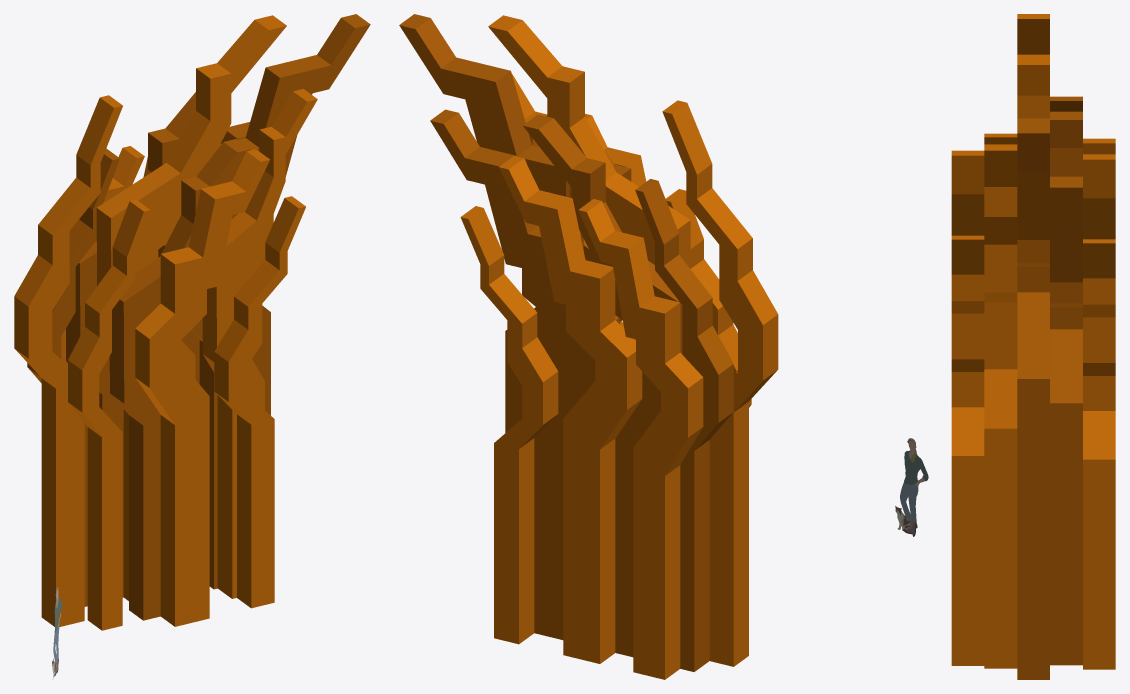
The model's file is tugu.gltf.
The picture shows the model from 3 angles, left to right: view 1: azimuth 30°, elevation 25°; view 2: azimuth 150°, elevation 25°; view 3: azimuth 270°, elevation 25°; orthographic projection. The views are drawn at different scales.
Visible parts, largest first — view 1: Group15, Group13, Group14, Group6, Group3, Group4, Group5, Group2, Group7, Group11, Group12, Group9; view 2: Group10, Group12, Group13, Group9, Group8, Group11, Group2, Group7, Group4, Group3, Group15; view 3: Group2, Group5, Group9, Group14, Group8, Group15, Group10, Group7, Group4, Heather1, Group13, Group12 (+2 smaller).
Boxes of the visible parts, box(x1,y1,x2,y2) form: Group15: box(135, 149, 269, 626); Group13: box(14, 95, 122, 626); Group14: box(214, 196, 305, 608); Group6: box(109, 139, 250, 620); Group3: box(68, 199, 150, 630); Group4: box(96, 15, 286, 600); Group5: box(202, 89, 317, 598); Group2: box(158, 14, 370, 589); Group7: box(66, 92, 195, 597); Group11: box(27, 148, 119, 606); Group12: box(61, 146, 144, 365); Group9: box(181, 93, 312, 383); Group10: box(499, 156, 642, 663); Group12: box(578, 199, 703, 679); Group13: box(662, 100, 778, 666); Group9: box(430, 109, 620, 639); Group8: box(460, 206, 558, 644); Group11: box(635, 179, 733, 671); Group2: box(399, 14, 621, 432); Group7: box(523, 114, 683, 657); Group4: box(488, 15, 690, 339); Group3: box(665, 189, 751, 407); Group15: box(585, 114, 646, 186); Group2: box(1017, 118, 1049, 679); Group5: box(984, 144, 1017, 668); Group9: box(1050, 176, 1082, 665); Group14: box(951, 235, 984, 665); Group8: box(1083, 239, 1115, 669); Group15: box(951, 150, 984, 235); Group10: box(1083, 154, 1115, 239); Group7: box(1050, 111, 1082, 176); Group4: box(1017, 54, 1049, 118); Heather1: box(895, 438, 928, 536); Group13: box(1017, 14, 1049, 54); Group12: box(1083, 138, 1115, 154).
Size of the model in its own units: 7.49 by 10.52 by 3.36.
